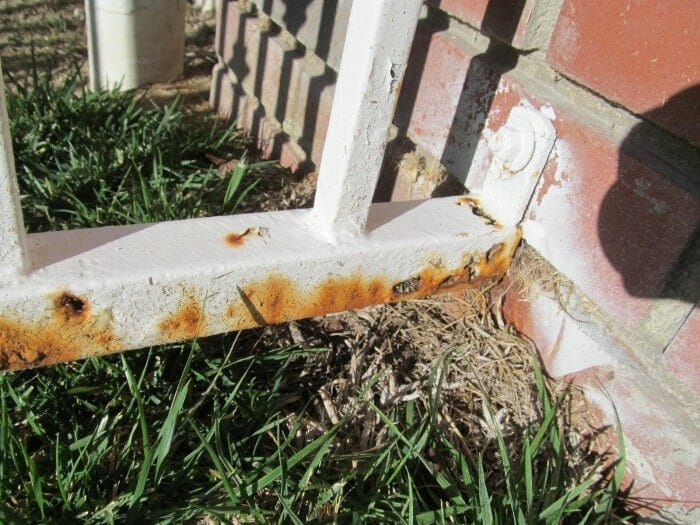rust: (253, 285, 381, 317), (151, 300, 207, 339), (1, 332, 63, 367), (50, 291, 96, 325), (426, 267, 501, 287), (225, 230, 245, 250)
